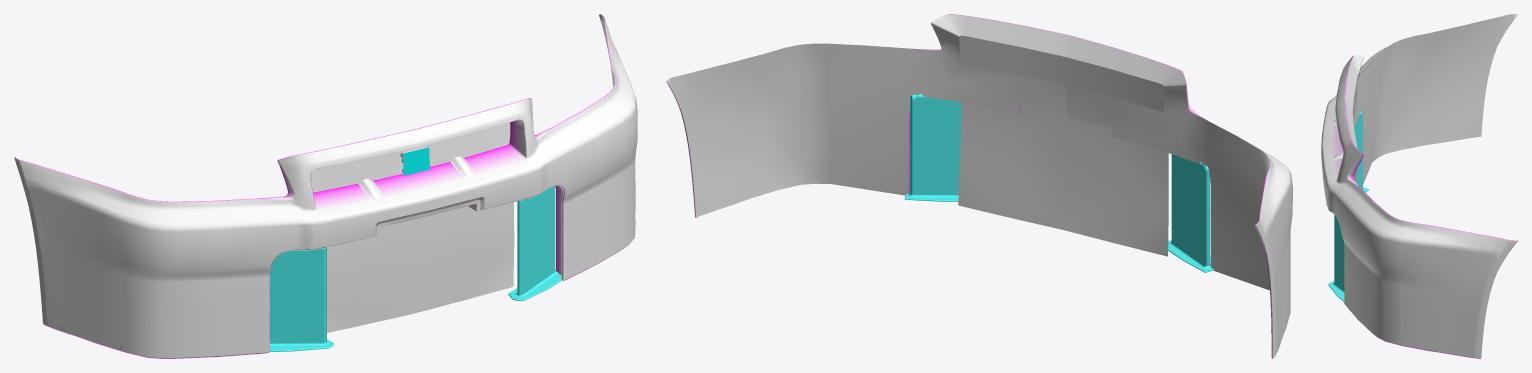
Rendered from Car_Nissan_SkylineGTRVspecR34_1999_BumperF_SetF.fbx.
The picture shows the model from 3 angles, left to right: view 1: azimuth 30°, elevation 25°; view 2: azimuth 150°, elevation 25°; view 3: azimuth 270°, elevation 25°; orthographic projection. The views are drawn at different scales.
Parts seen in each view (by area): view 1: BumperF 6; view 2: BumperF 6; view 3: BumperF 6.
Part boxes in pixels (x1,y1,x2,y2): BumperF 6: [14, 14, 637, 358]; BumperF 6: [666, 14, 1292, 358]; BumperF 6: [1321, 14, 1517, 358].
Size of the model in its own units: 1.83 by 0.5641 by 0.6702.
